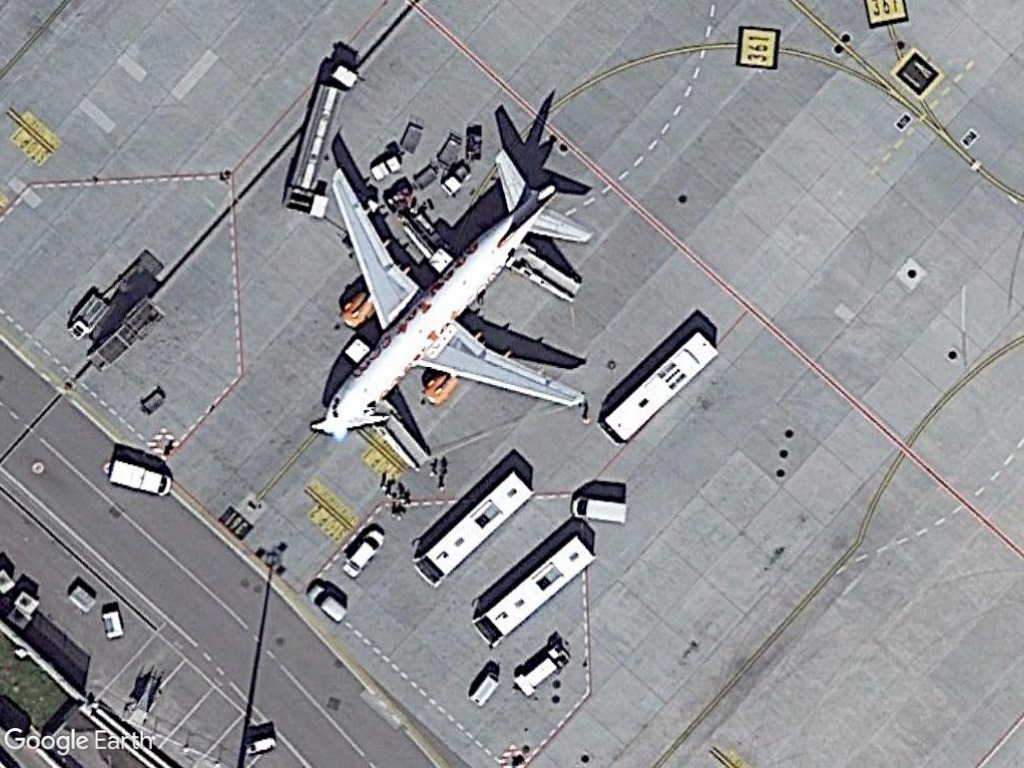airliner: (305, 141, 599, 452)
bus: (598, 328, 729, 451), (413, 468, 544, 591), (470, 534, 603, 650)
car: (338, 528, 390, 581), (303, 583, 352, 627)
van: (104, 455, 176, 501), (568, 493, 631, 527)
